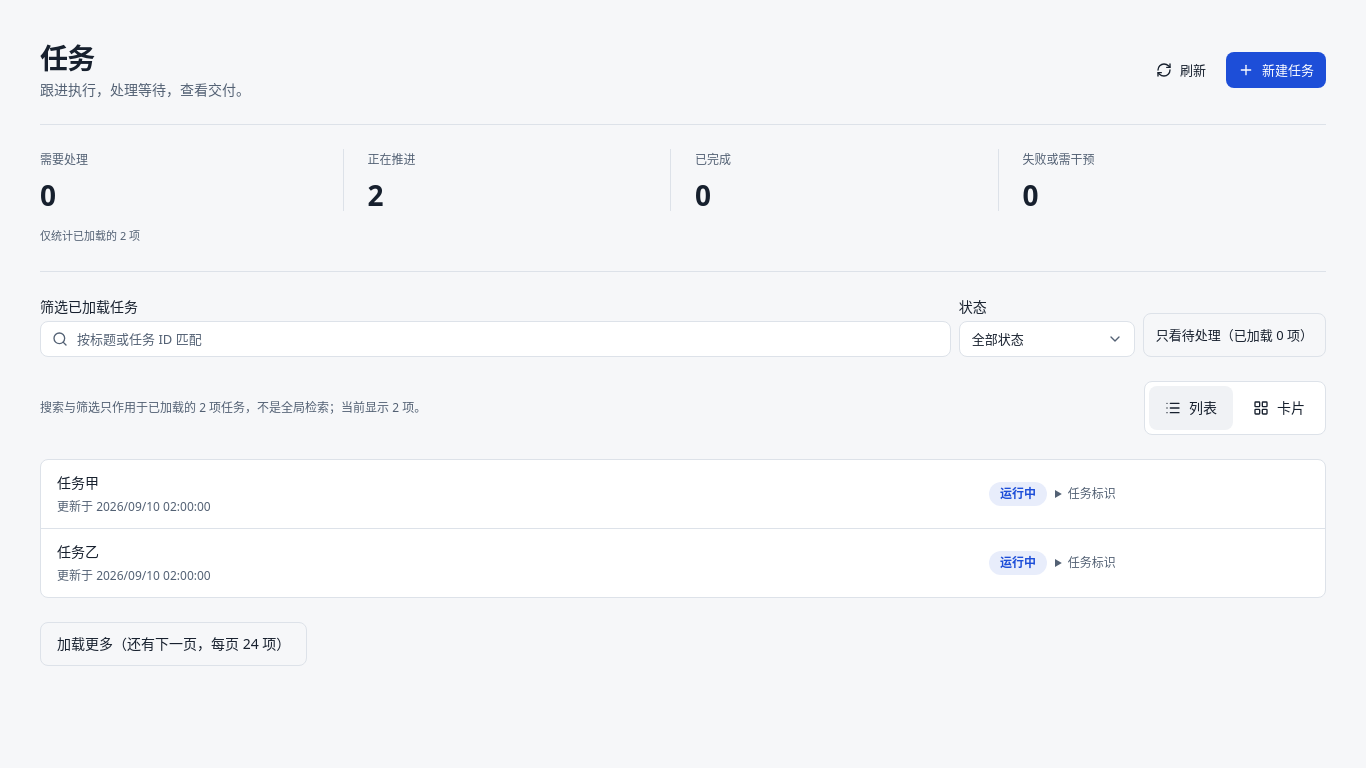
Test: TaskListView › 按 nextCursor 加载更多并按 id 去重，翻页到底给出说明
Expected: the text "任务甲" is shown, [57, 473, 99, 492]
Click the button "加载更多（还有下一页，每页 24 项）".
click(174, 644)  # box [40, 622, 307, 666]
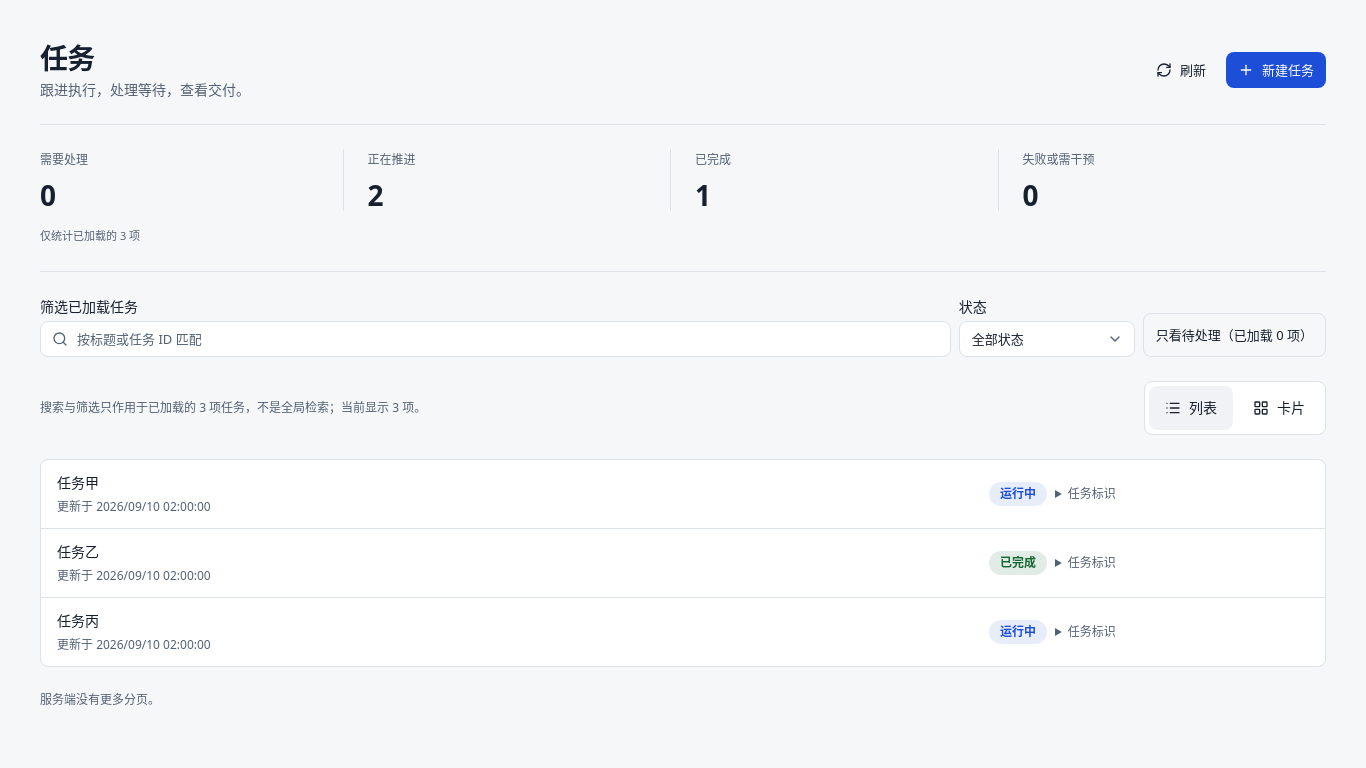
Expected: the text "任务丙" is shown, [57, 611, 99, 630]
Expected: the text "任务乙" is shown once, [57, 542, 99, 561]
Expected: the text "服务端没有更多分页。" is shown, [40, 691, 160, 709]
